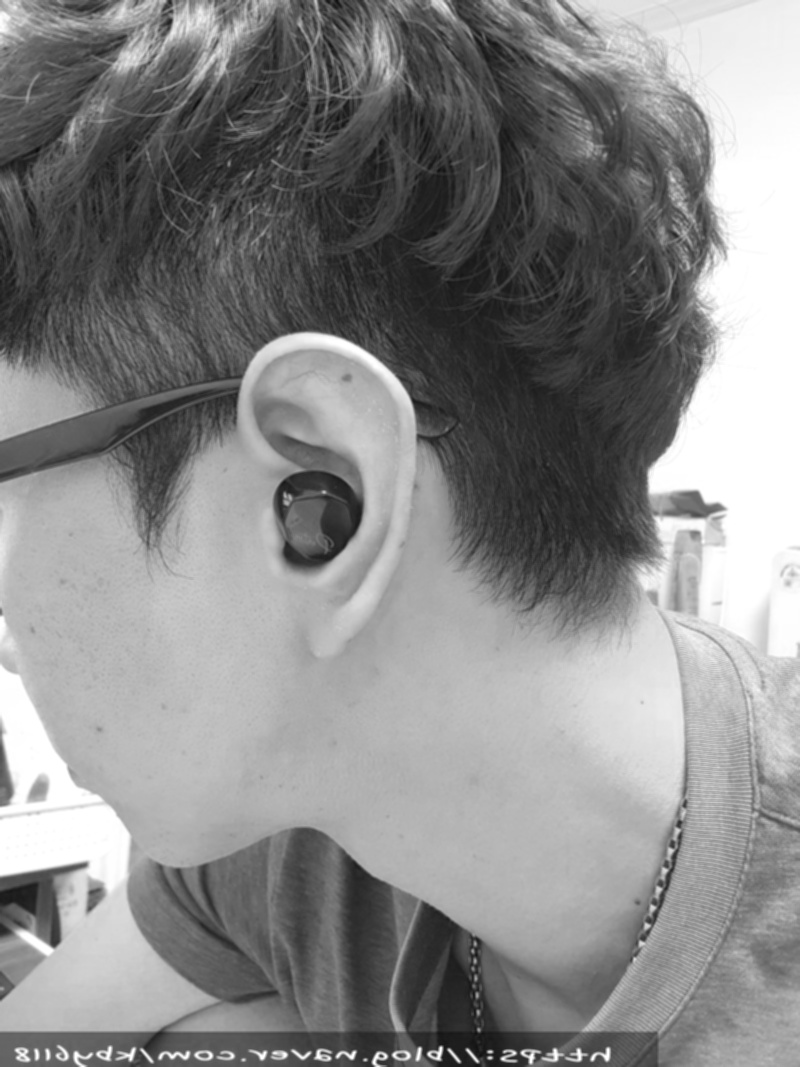earphone: (234, 332, 417, 662)
